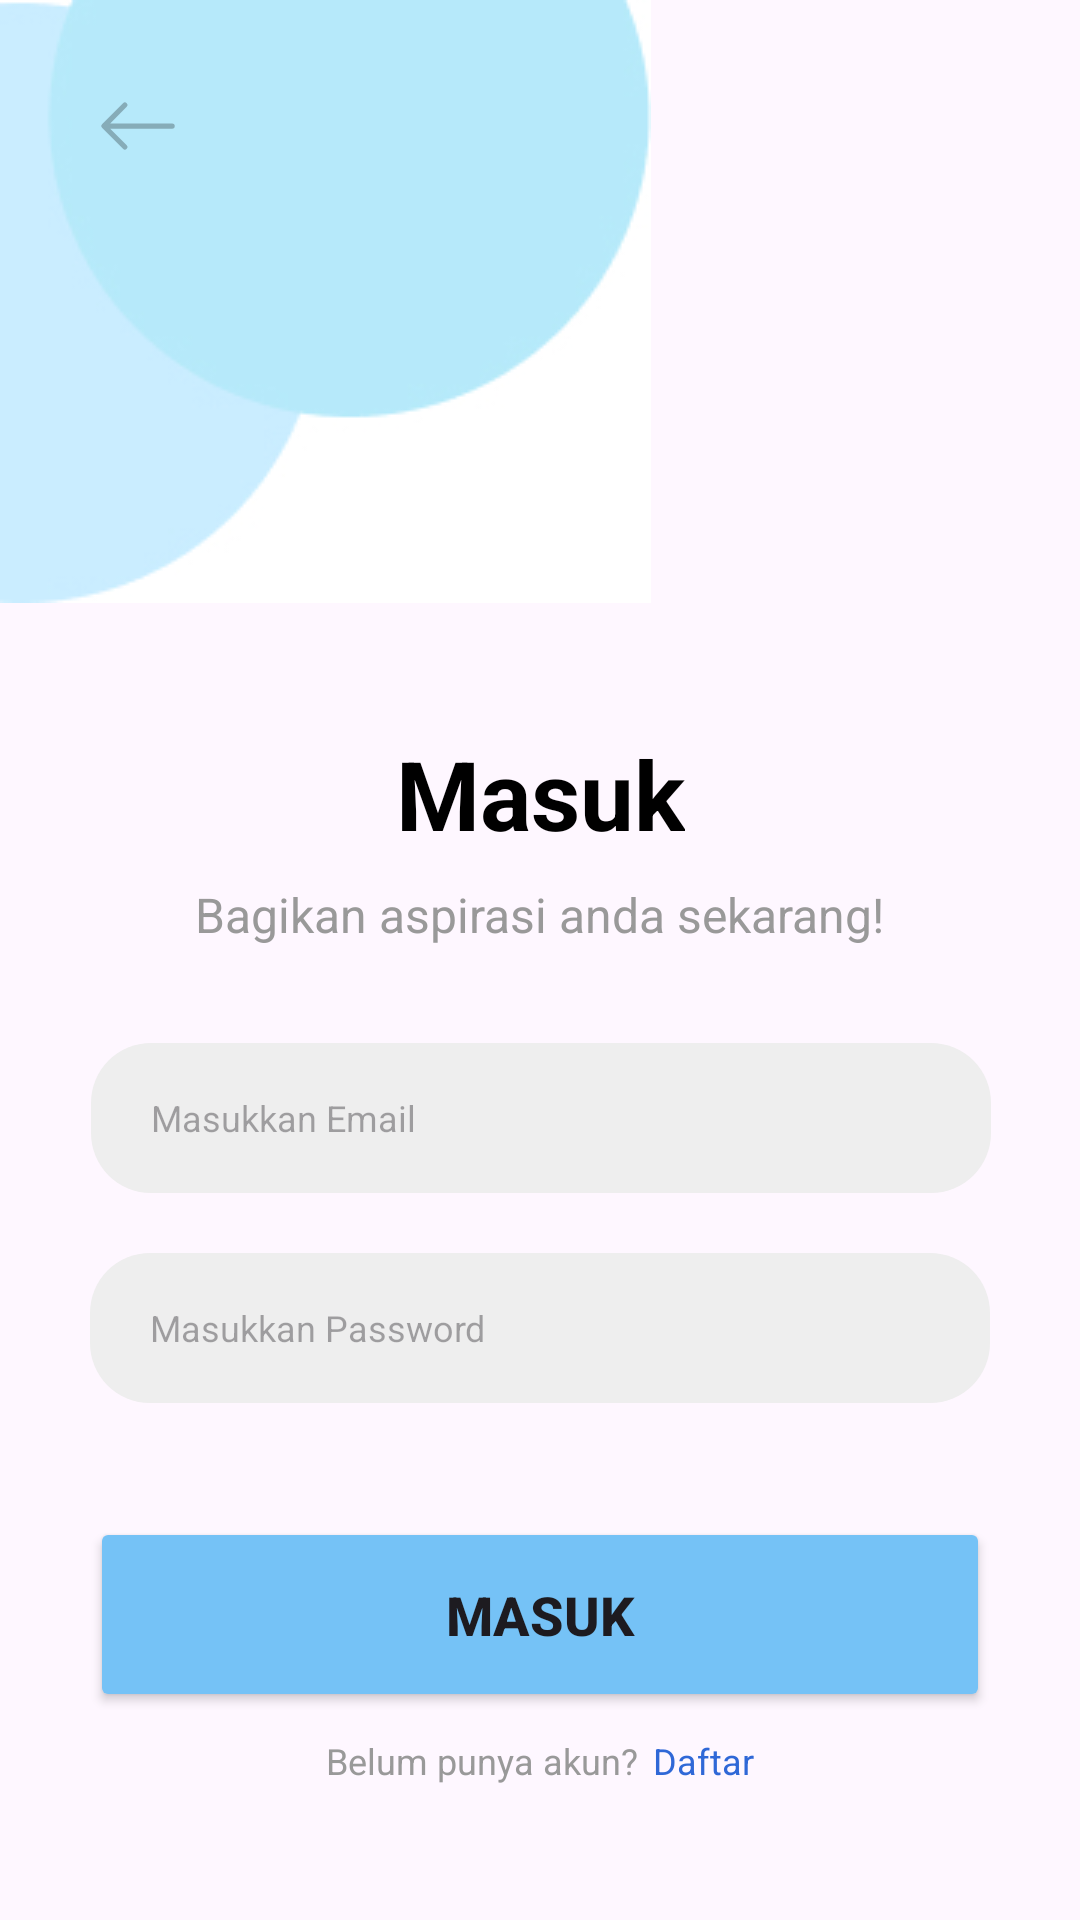

Screen size 1080x1920. Icon name, then its center in pixels as [x,y]:
back: [138,126]
